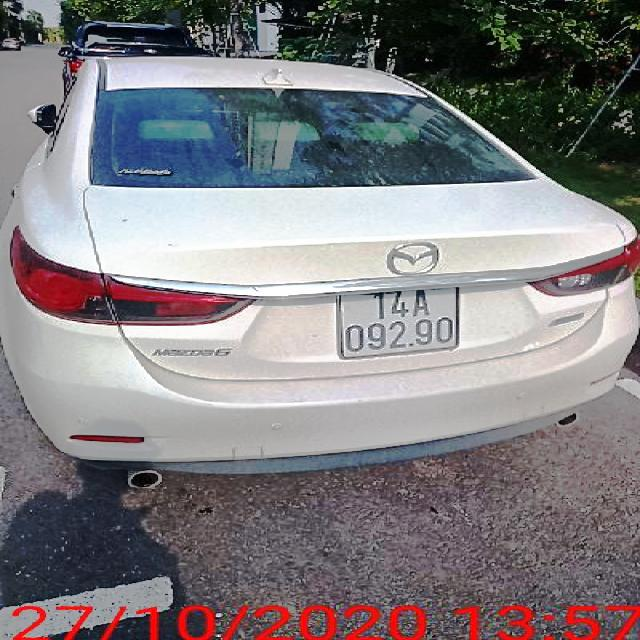license_plate: (341, 288, 461, 362)
